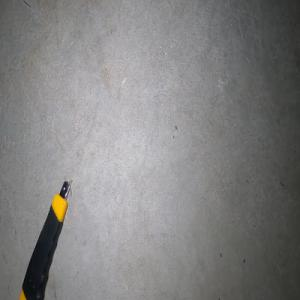Cutter: (19, 179, 70, 300)
